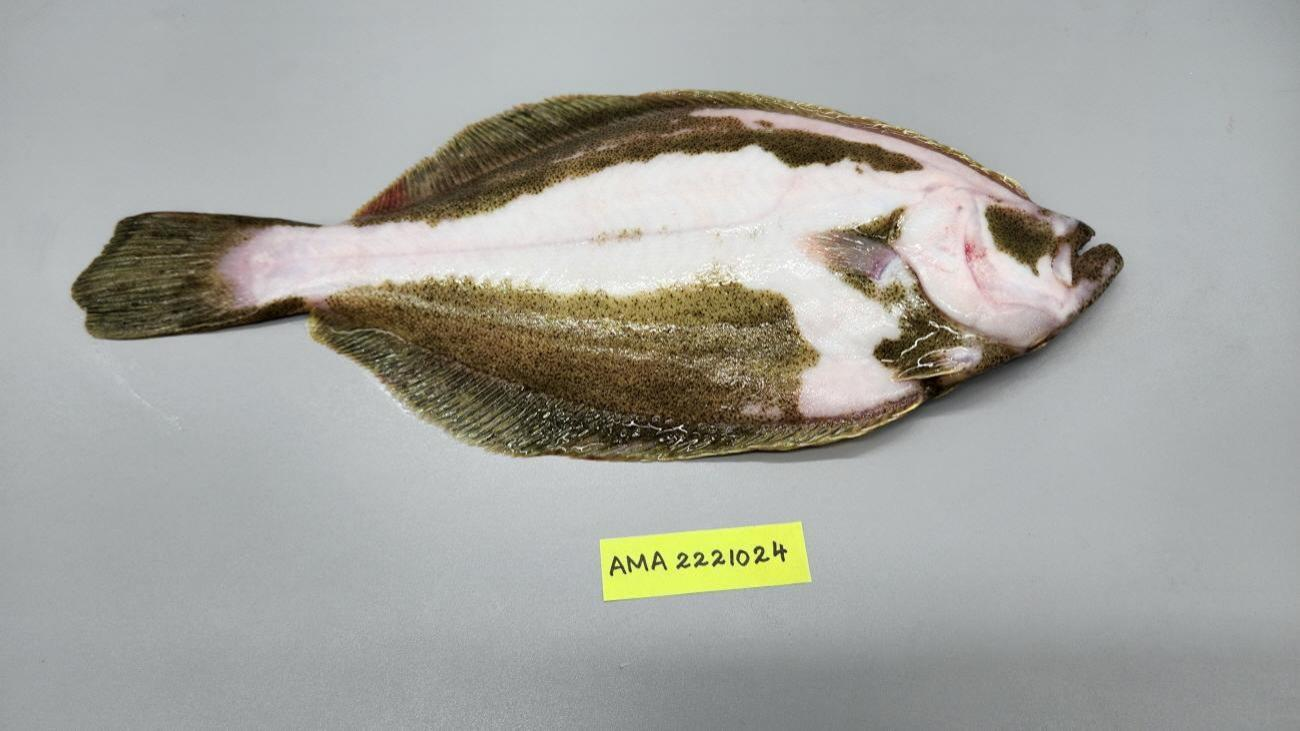MAOUY: (71, 64, 1122, 461)
